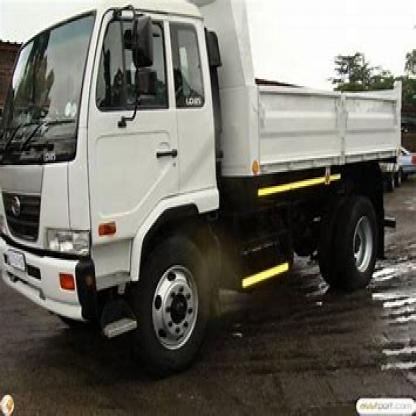dump_truck: (5, 2, 415, 370)
